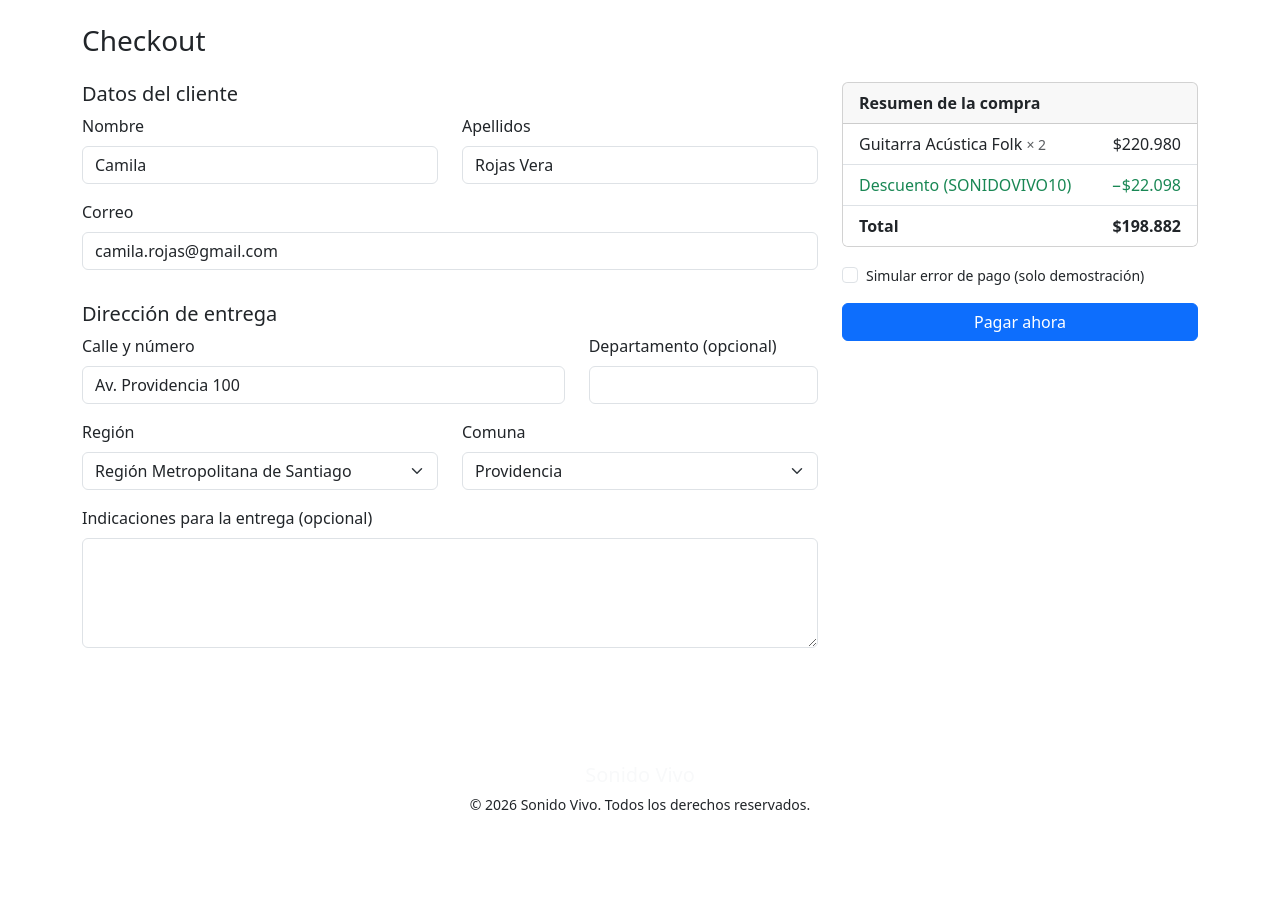
Scenario: Flujo de pago (POST /boletas) › el total de la boleta lo calcula el backend con el cupón
This screenshot has width=1280, height=900.
Click the button "Pagar ahora".
click(1020, 322)  # box [842,303,1198,341]
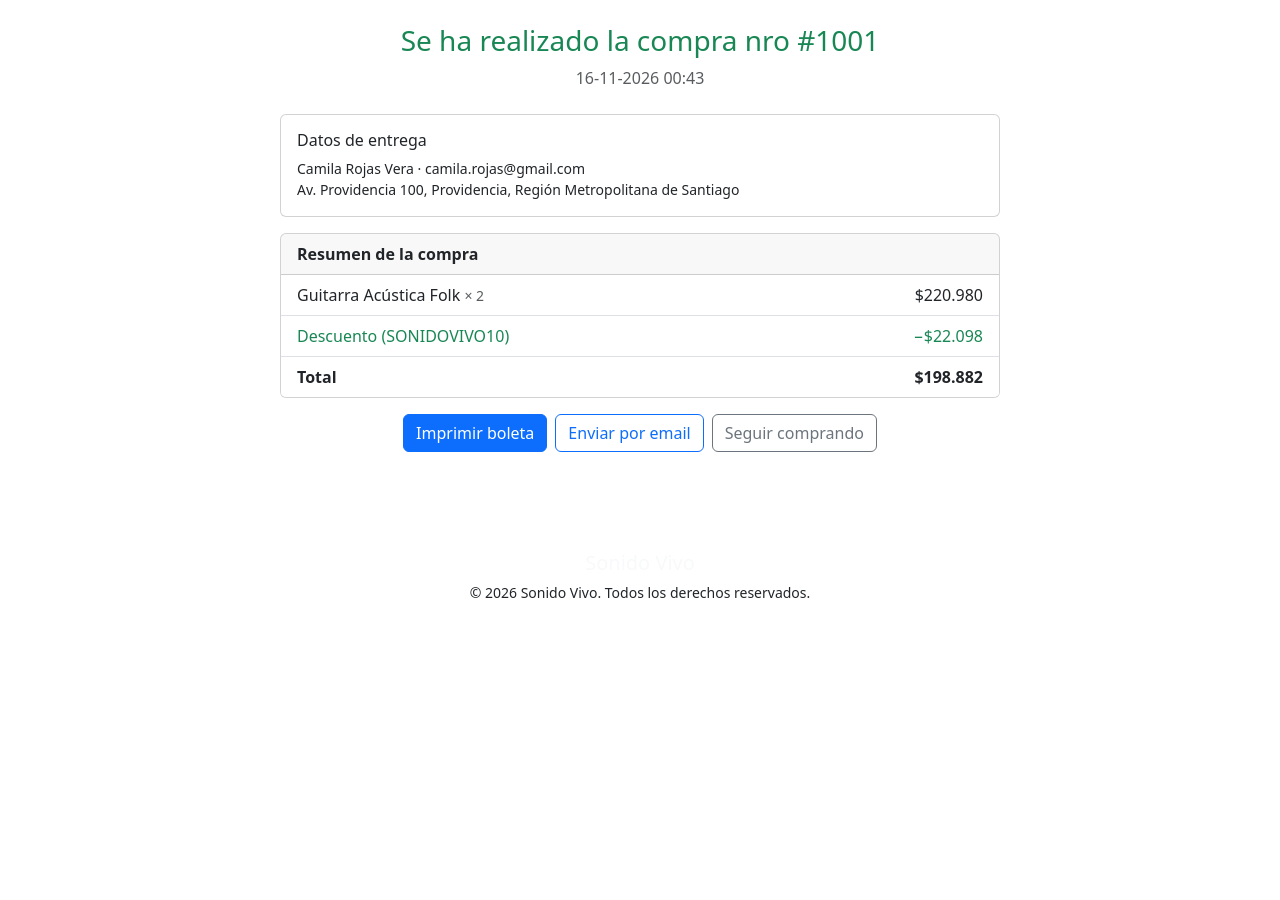
Check: the text with test id "total-resumen" reads "$198.882", box [914,366,983,388]
Check: the heading "Se ha realizado la compra nro #1001" is shown, box [401,21,879,59]
